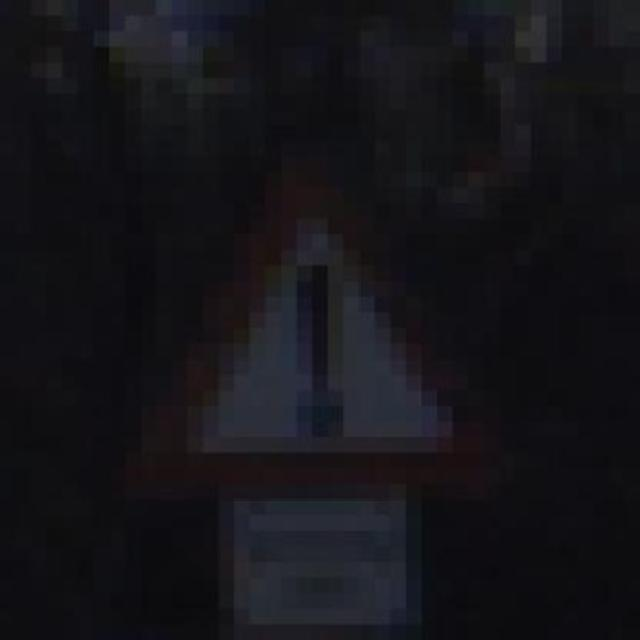Attention Please-: (92, 166, 545, 509)
